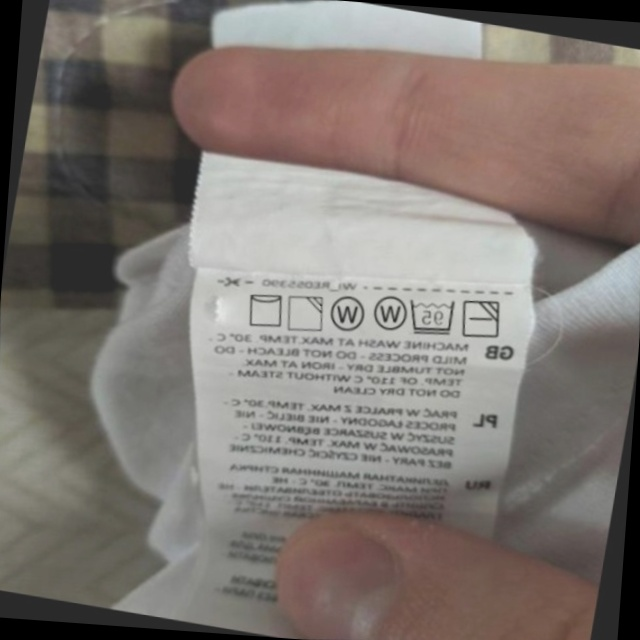95C: (402, 289, 462, 343)
dry_flat_in_shade: (455, 291, 508, 346)
line_dry: (239, 284, 290, 335)
shade_dry: (280, 287, 330, 339)
wet_clean: (365, 286, 413, 338), (323, 289, 371, 340)
